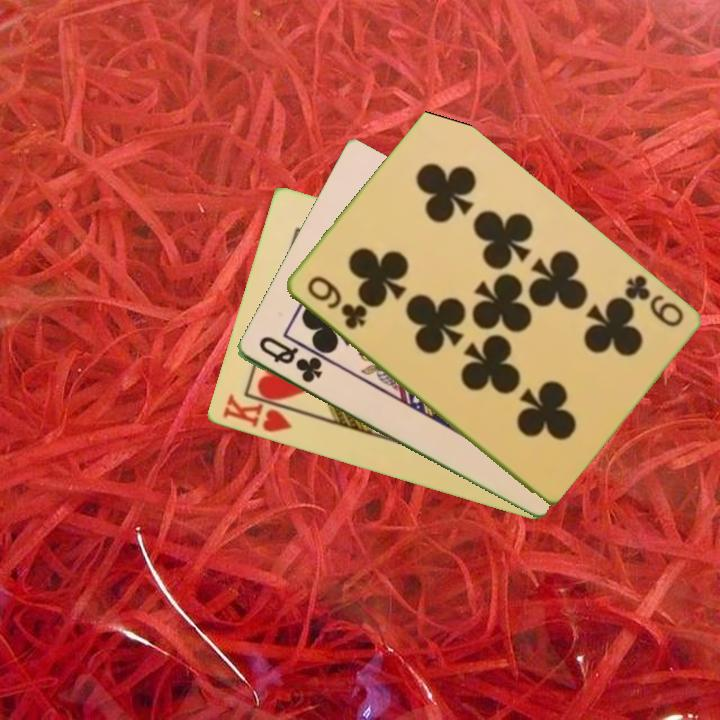9c: (303, 272, 369, 333), (620, 271, 686, 330)
Kh: (218, 390, 304, 436)
Qc: (255, 332, 326, 386)
